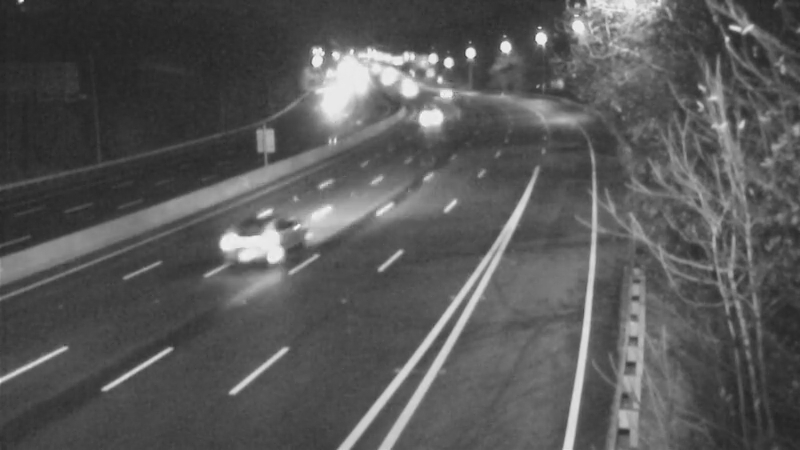vehicle: (208, 205, 288, 285), (383, 64, 433, 114), (421, 68, 471, 118), (409, 91, 459, 141)
